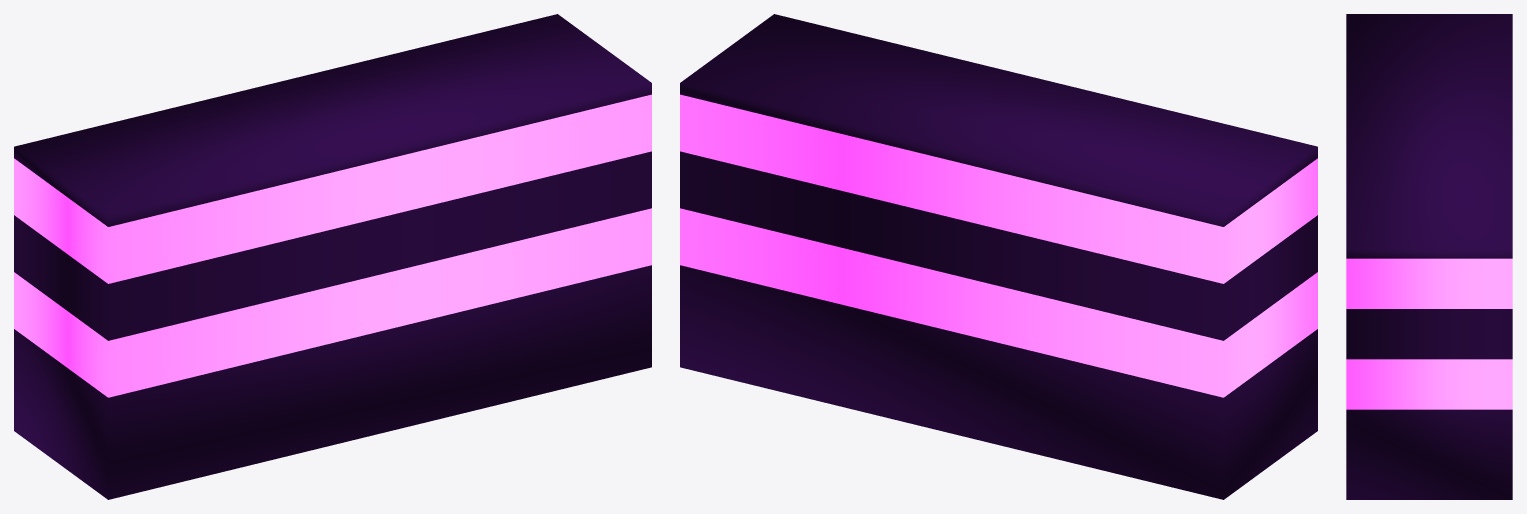
File: TheBestMur.fbx
3 views of the same model, side by side, from view 1: azimuth 30°, elevation 25°; view 2: azimuth 150°, elevation 25°; view 3: azimuth 270°, elevation 25° (orthographic). The views are drawn at different scales.
Parts seen in each view (by area): view 1: Box003; view 2: Box003; view 3: Box003.
Boxes of the visible parts, x1,y1,x2,y2 form: Box003: (14,14,651,499); Box003: (680,14,1317,499); Box003: (1346,14,1512,499).
Size of the model in its own units: 1000 by 500 by 300.
